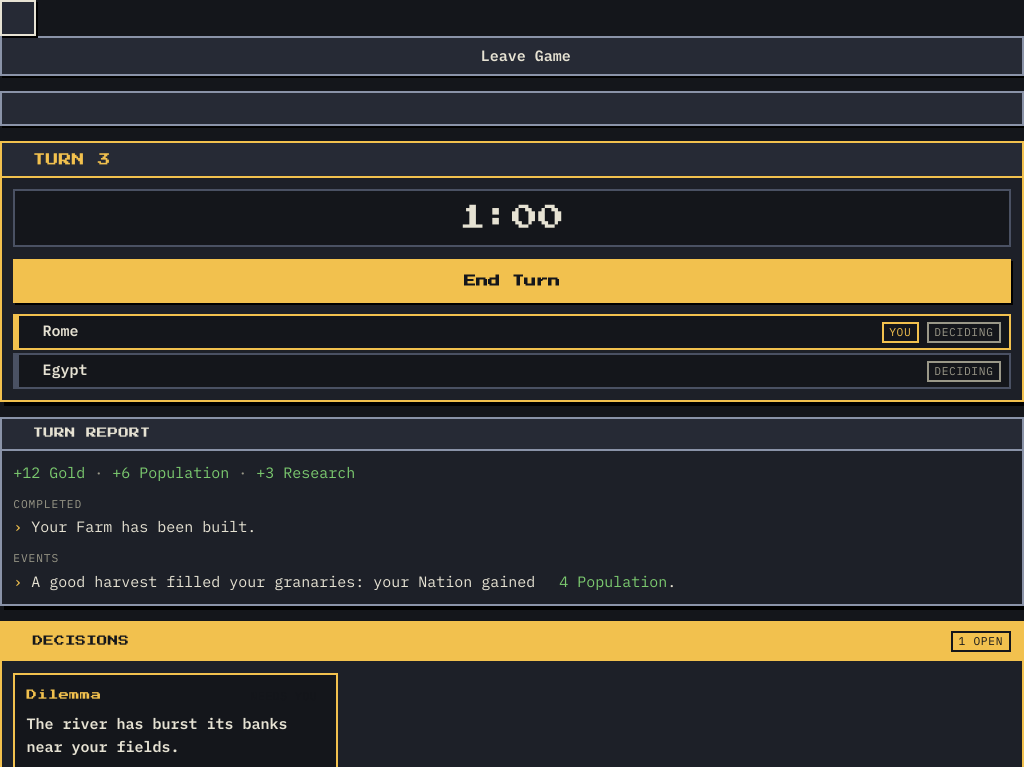
Leave Game › asks again each time, and Escape cancels
The width and height of the screenshot is (1024, 767).
Click the button "Leave Game". click: coordinates (512, 56)
box: [0,36,1023,76]
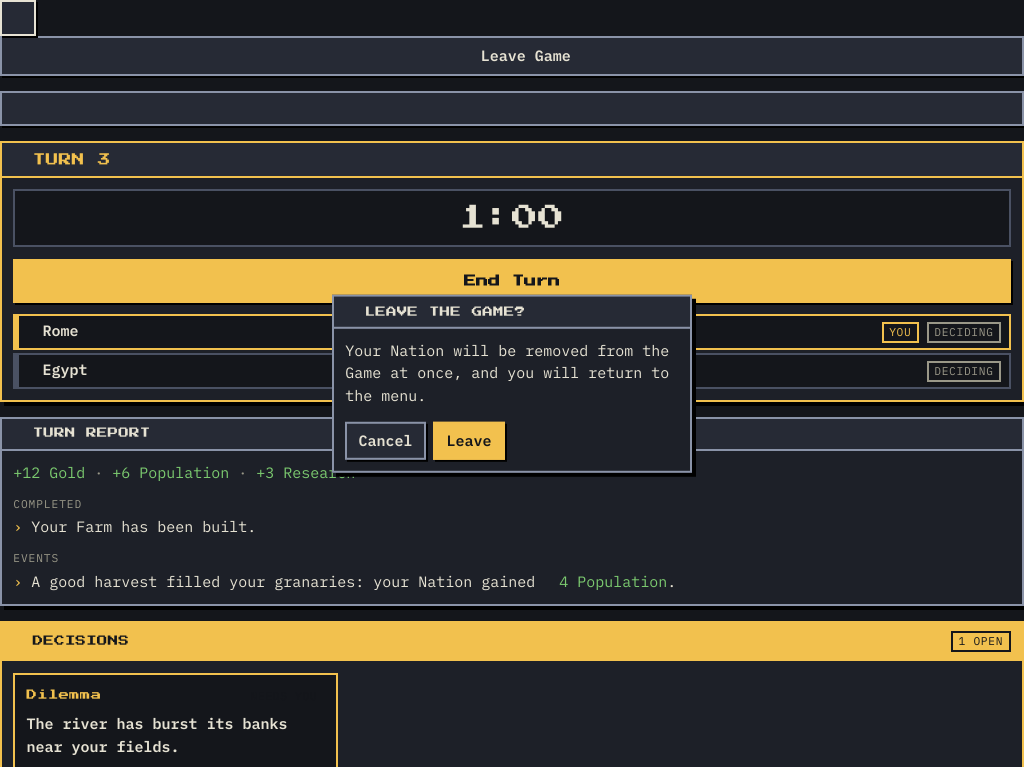
Press Escape
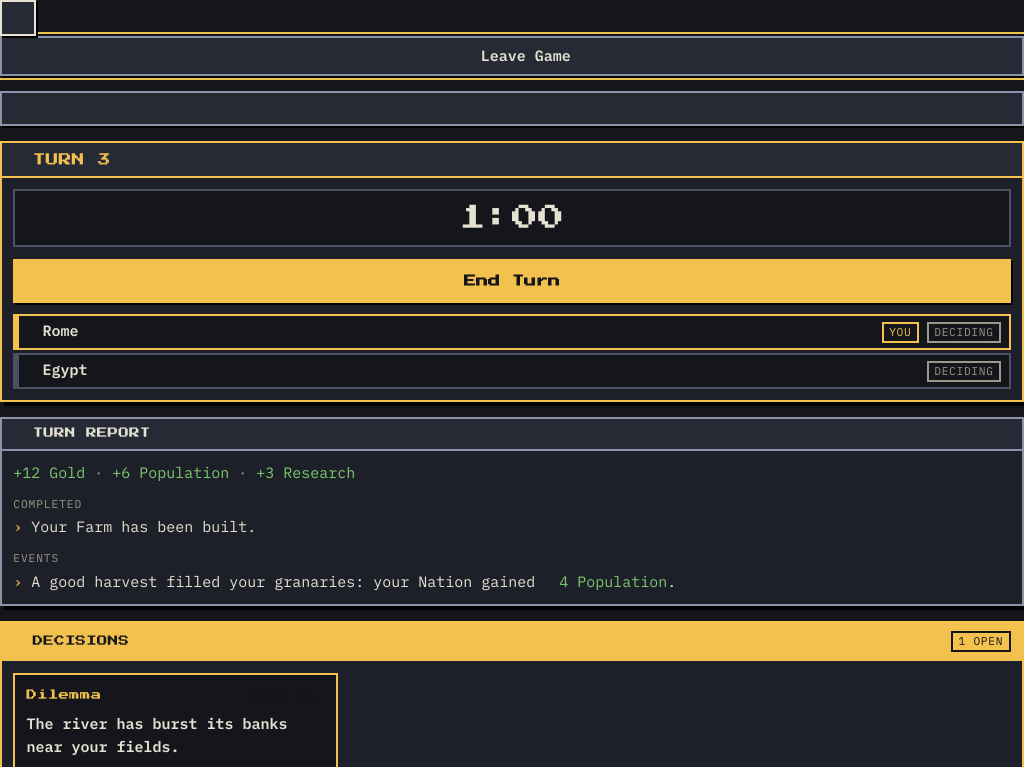
Check: the heading "Leave the Game?" is gone
Click the button "Leave Game". click: coordinates (512, 56)
box: [0,36,1023,76]
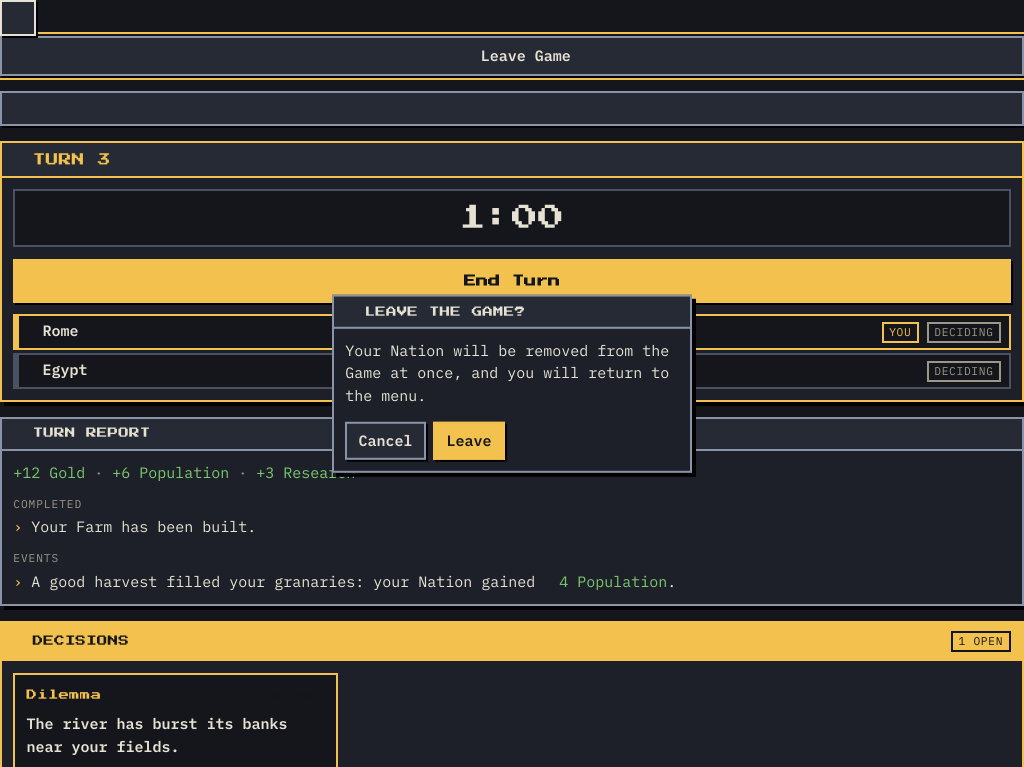
Check: the dialog "Leave the Game?" is shown, box [332,295,692,473]
